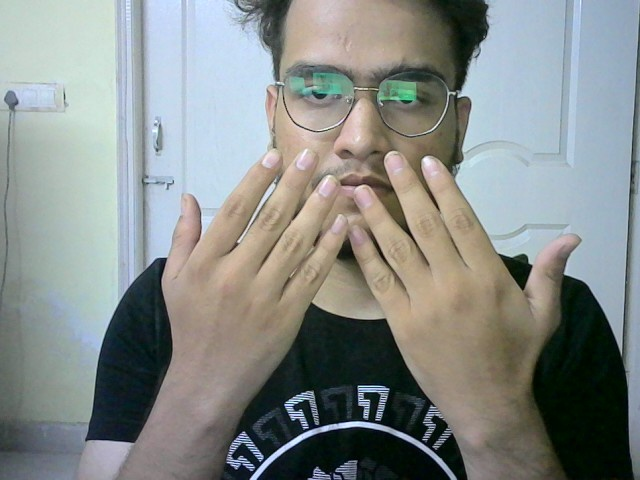Thank You: (154, 144, 580, 392)
